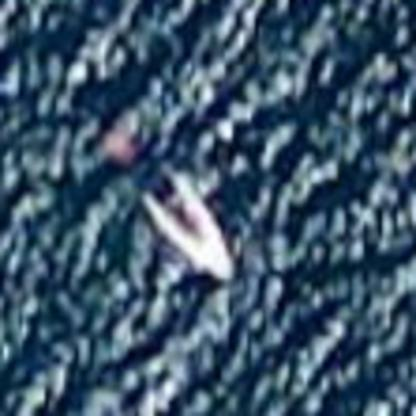ship: (128, 158, 244, 286)
